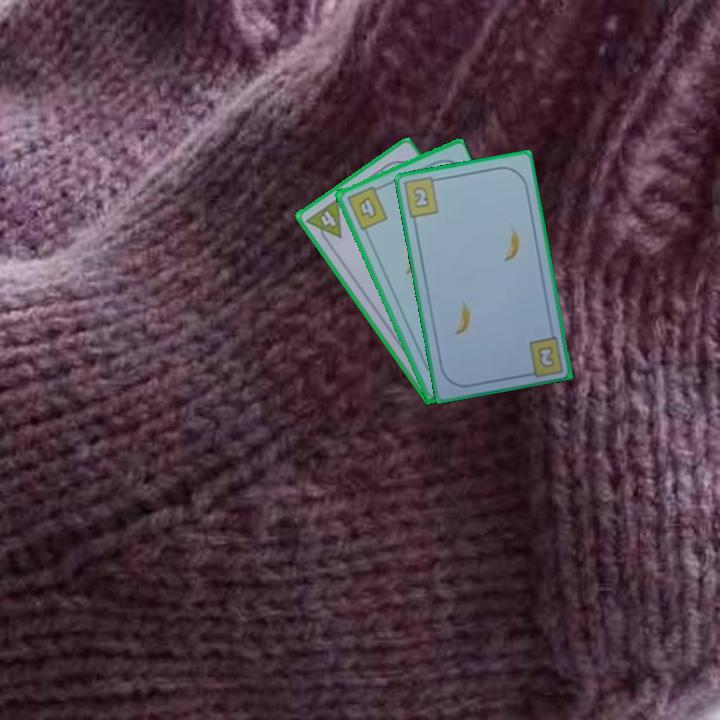2b: (400, 174, 444, 221), (534, 342, 558, 371)
4b: (343, 182, 390, 233)
4p: (303, 195, 345, 249)
